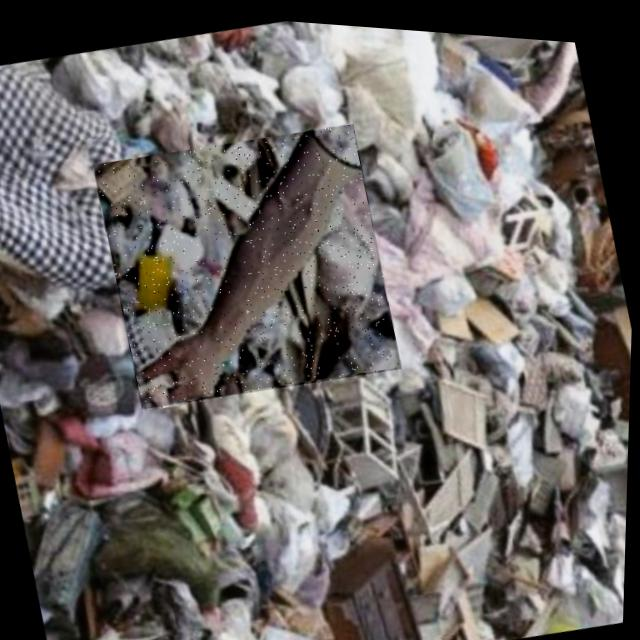Person in Rubble: (87, 104, 408, 423)
